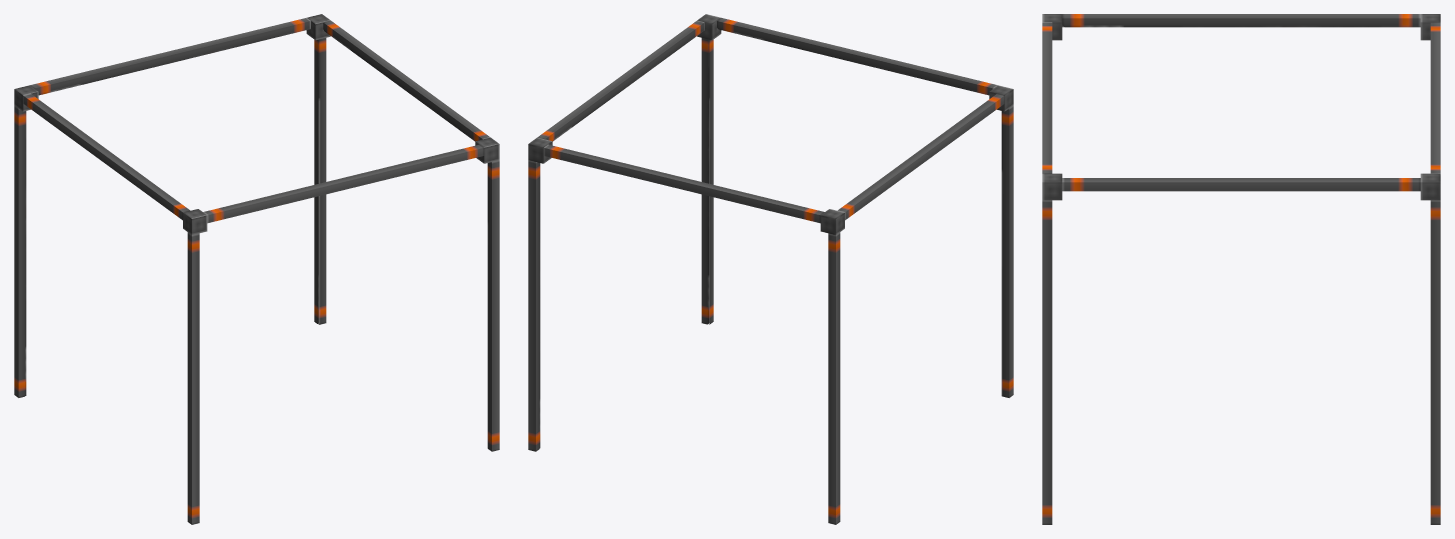
Rendered from purex_frame.obj.
The picture shows the model from 3 angles, left to right: view 1: azimuth 30°, elevation 25°; view 2: azimuth 150°, elevation 25°; view 3: azimuth 270°, elevation 25°; orthographic projection. The views are drawn at different scales.
Visible parts, largest first — view 1: Frame; view 2: Frame; view 3: Frame.
Part boxes in pixels (x1,y1,x2,y2): Frame: (14,14,499,524); Frame: (528,14,1013,524); Frame: (1042,14,1440,524).
Bounding box in the file's own units: 5 × 4.75 × 5.
